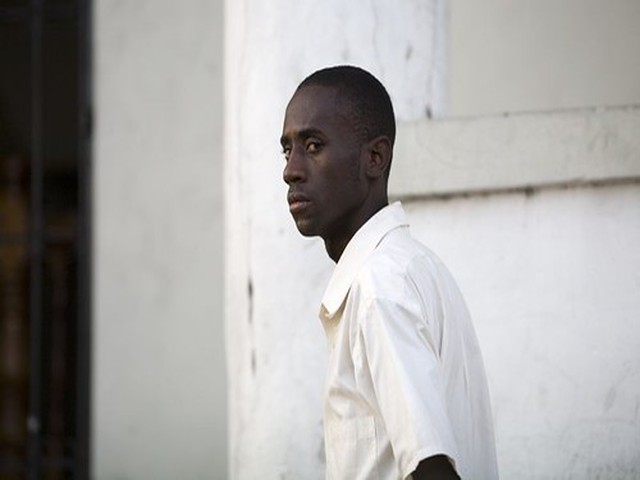Person: (263, 52, 507, 476)
